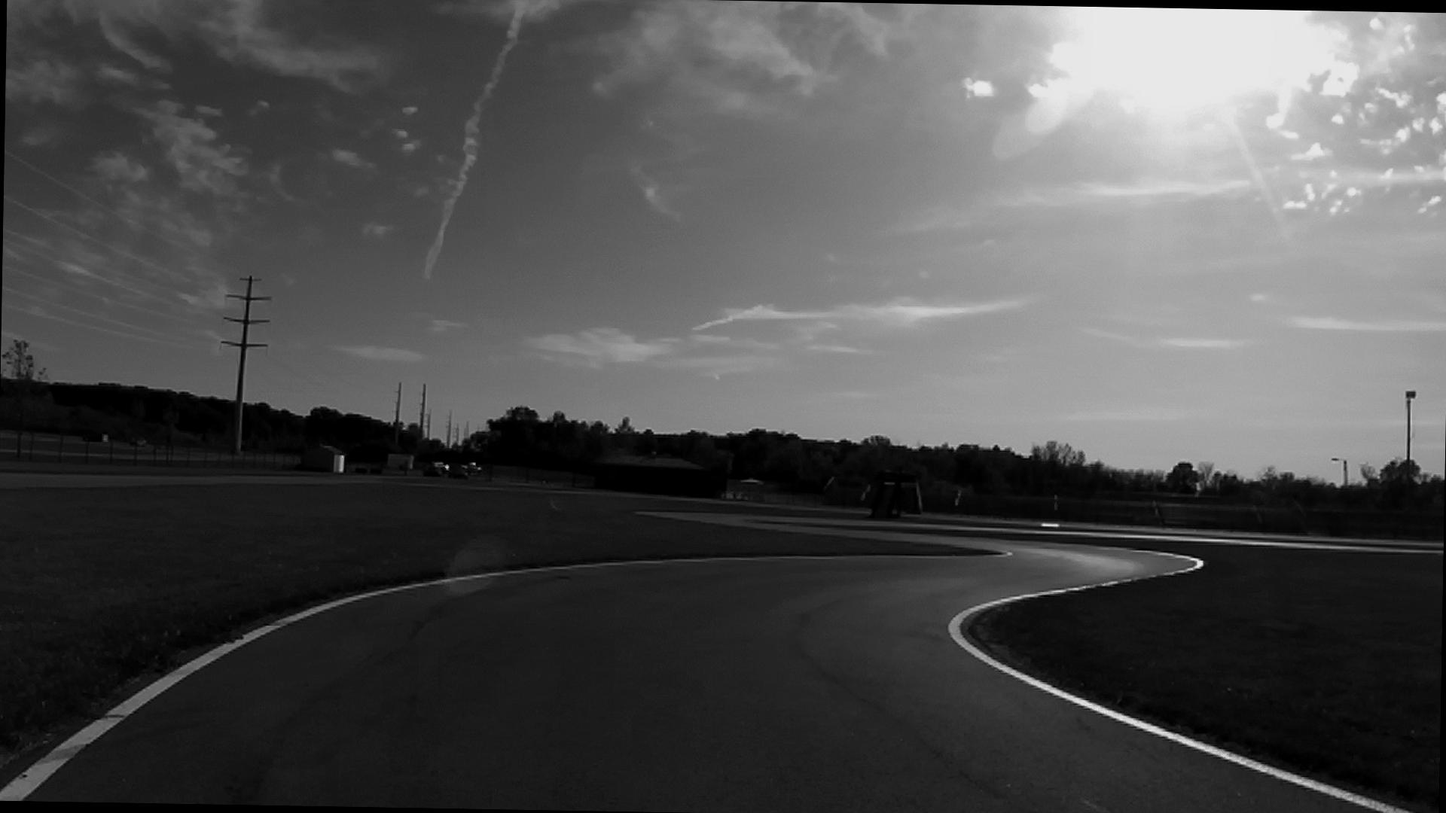white-line: (0, 556, 850, 801), (947, 578, 1420, 813), (1326, 787, 1398, 813), (997, 549, 1013, 553)
